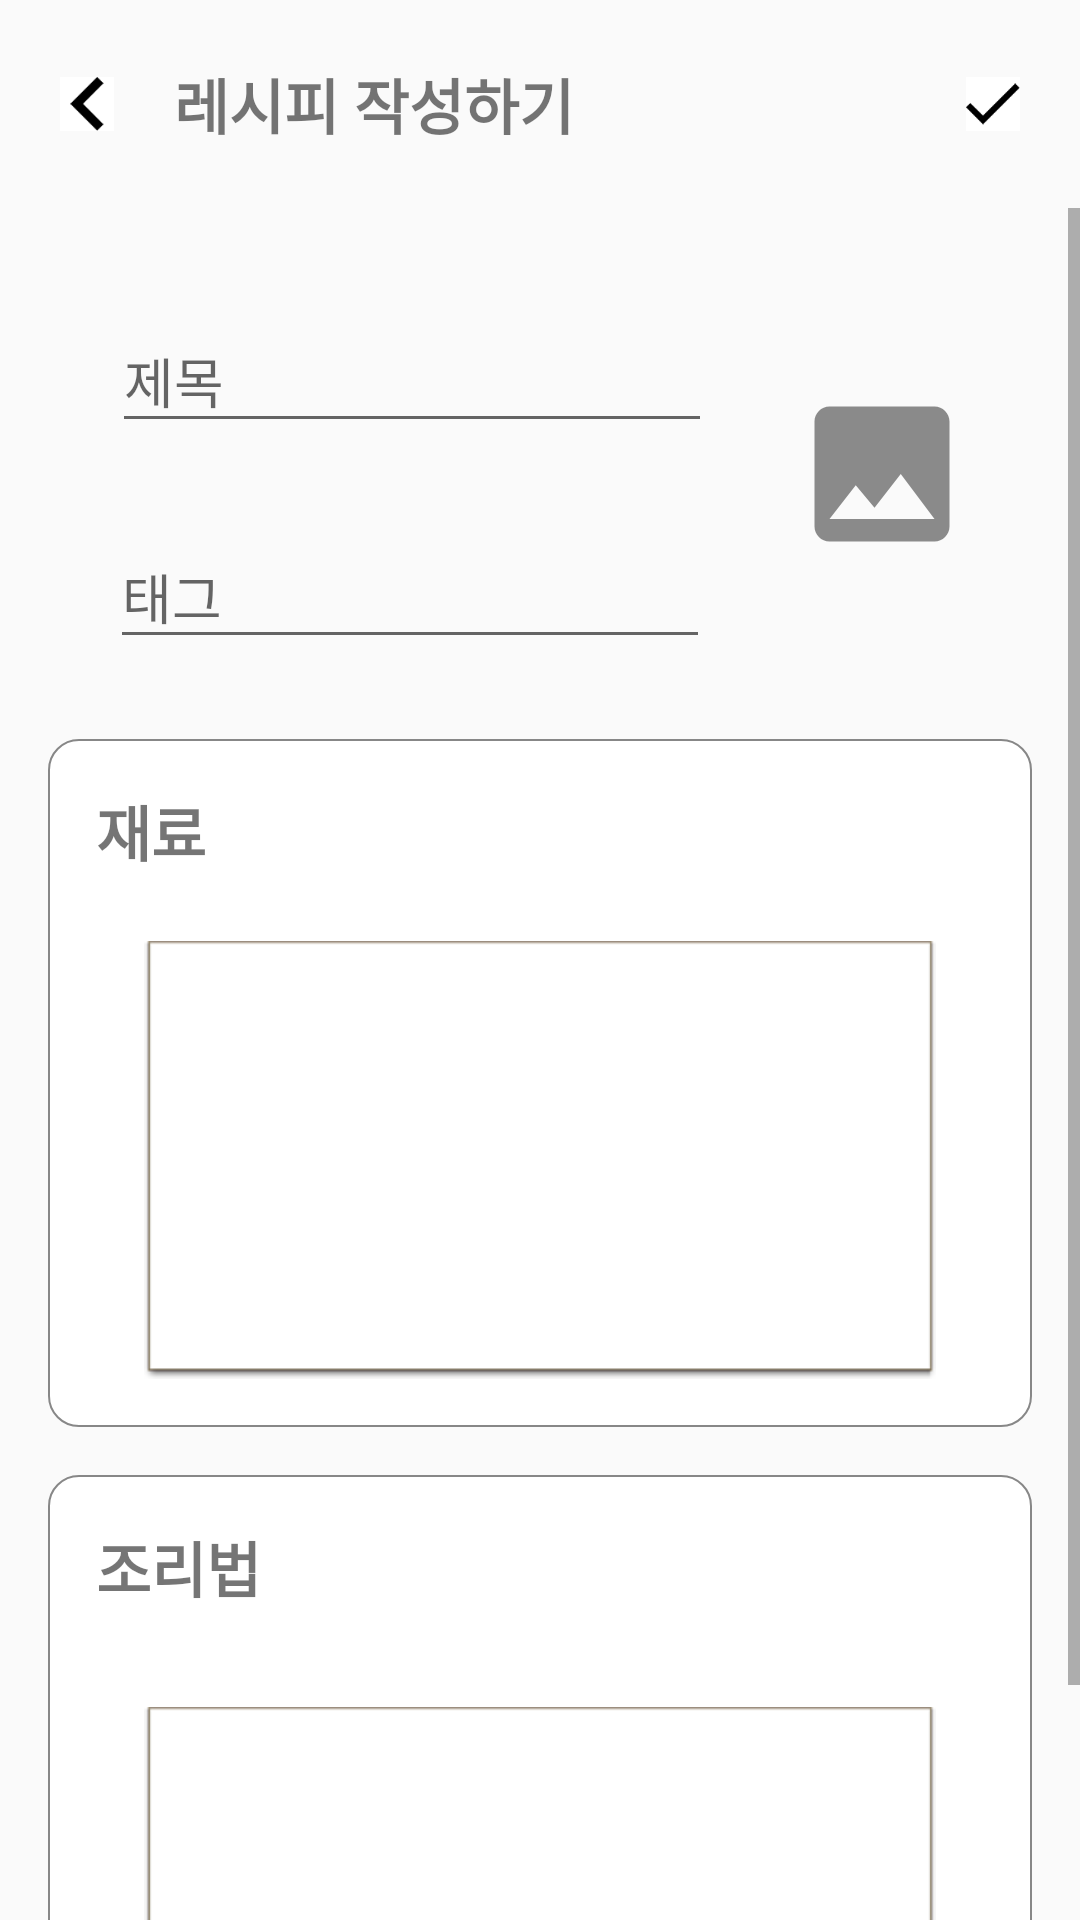

Named icons in this screenshot (1080w x 1920h) and their centers, (x=x, y=y):
arrow left: (x=87, y=104)
check: (x=993, y=104)
photo: (x=882, y=474)
